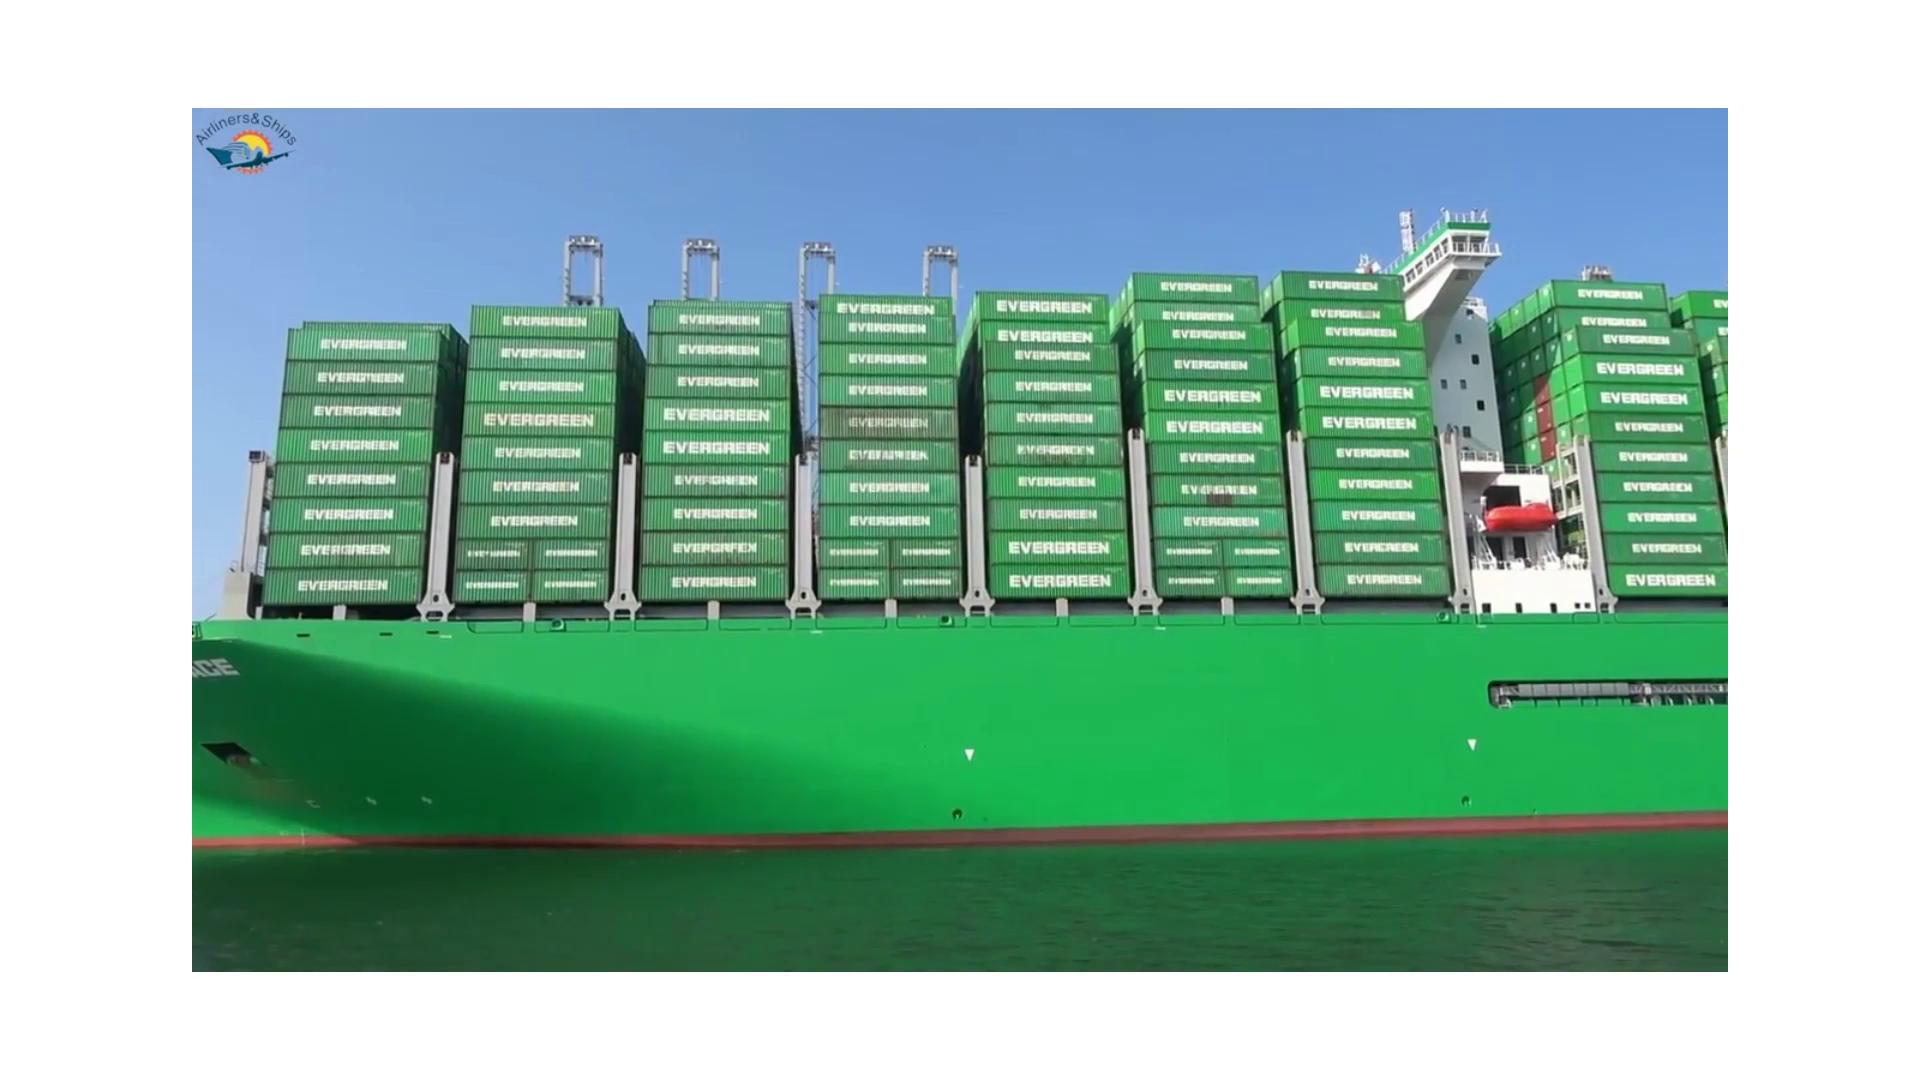OCR: (189, 641, 237, 691)
